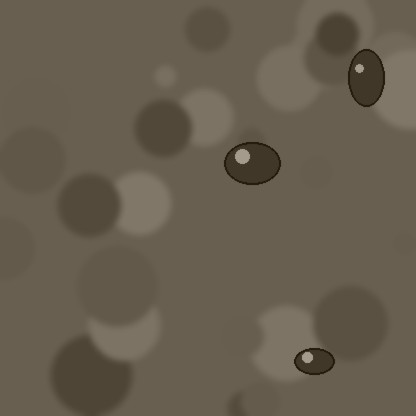gota: (224, 144, 280, 188), (348, 51, 384, 111), (294, 349, 334, 377)
